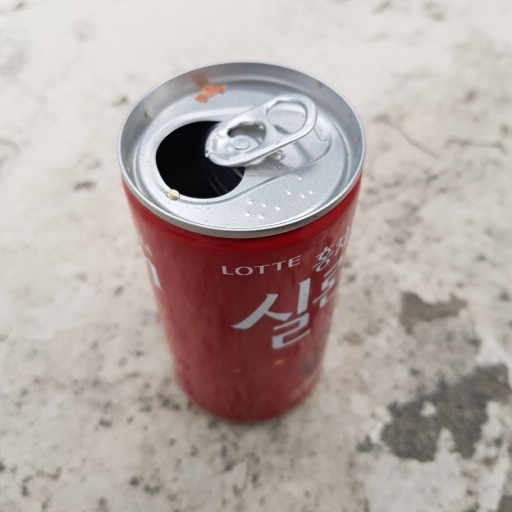Metal_0: (114, 57, 365, 429)
